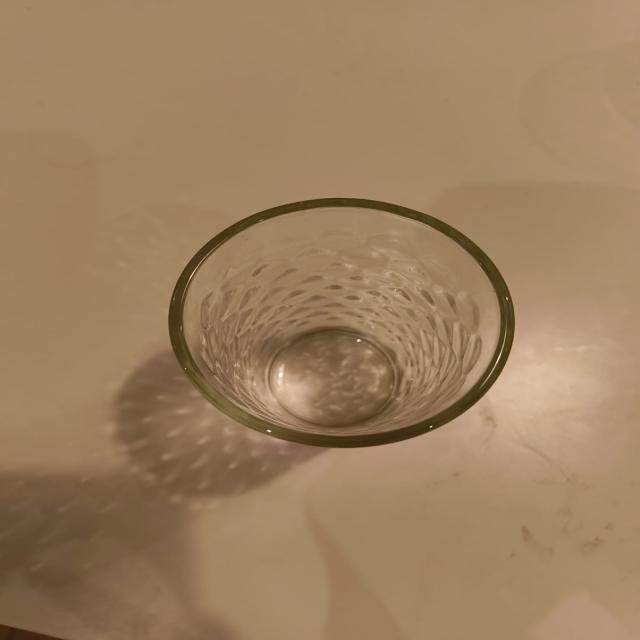ok g2: (168, 196, 516, 449)
